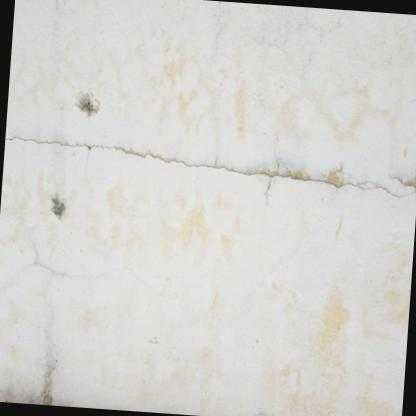crack: (4, 132, 416, 200)
